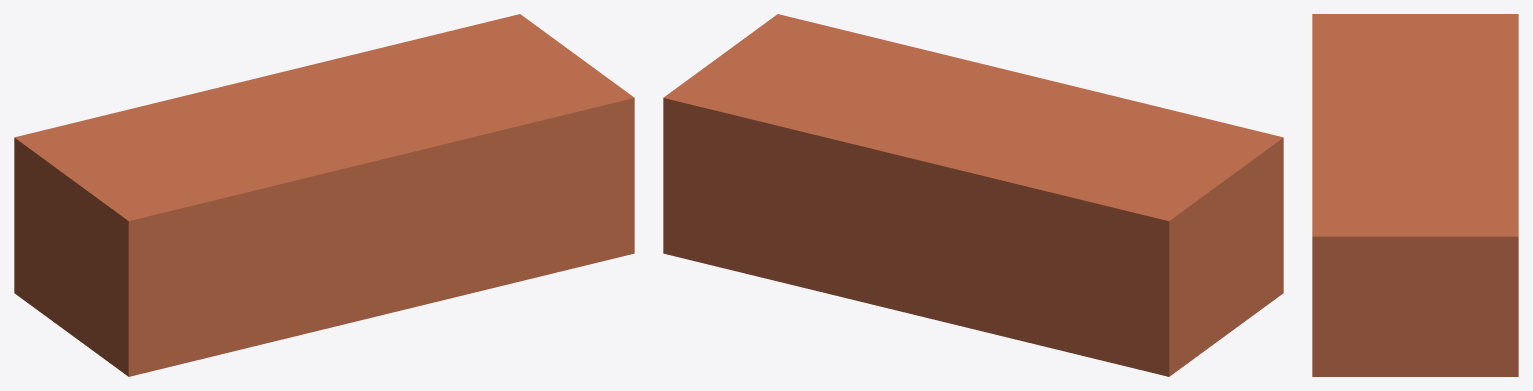
Rendered from Brick_01.fbx.
3 renders of one model, left to right at view 1: azimuth 30°, elevation 25°; view 2: azimuth 150°, elevation 25°; view 3: azimuth 270°, elevation 25°, orthographic. The views are drawn at different scales.
Parts seen in each view (by area): view 1: Brick_01; view 2: Brick_01; view 3: Brick_01.
Part boxes in pixels (x1,y1,x2,y2): Brick_01: (14, 14, 634, 376); Brick_01: (663, 14, 1283, 376); Brick_01: (1312, 14, 1518, 376).
Size of the model in its own units: 25.5 by 7.5 by 10.
